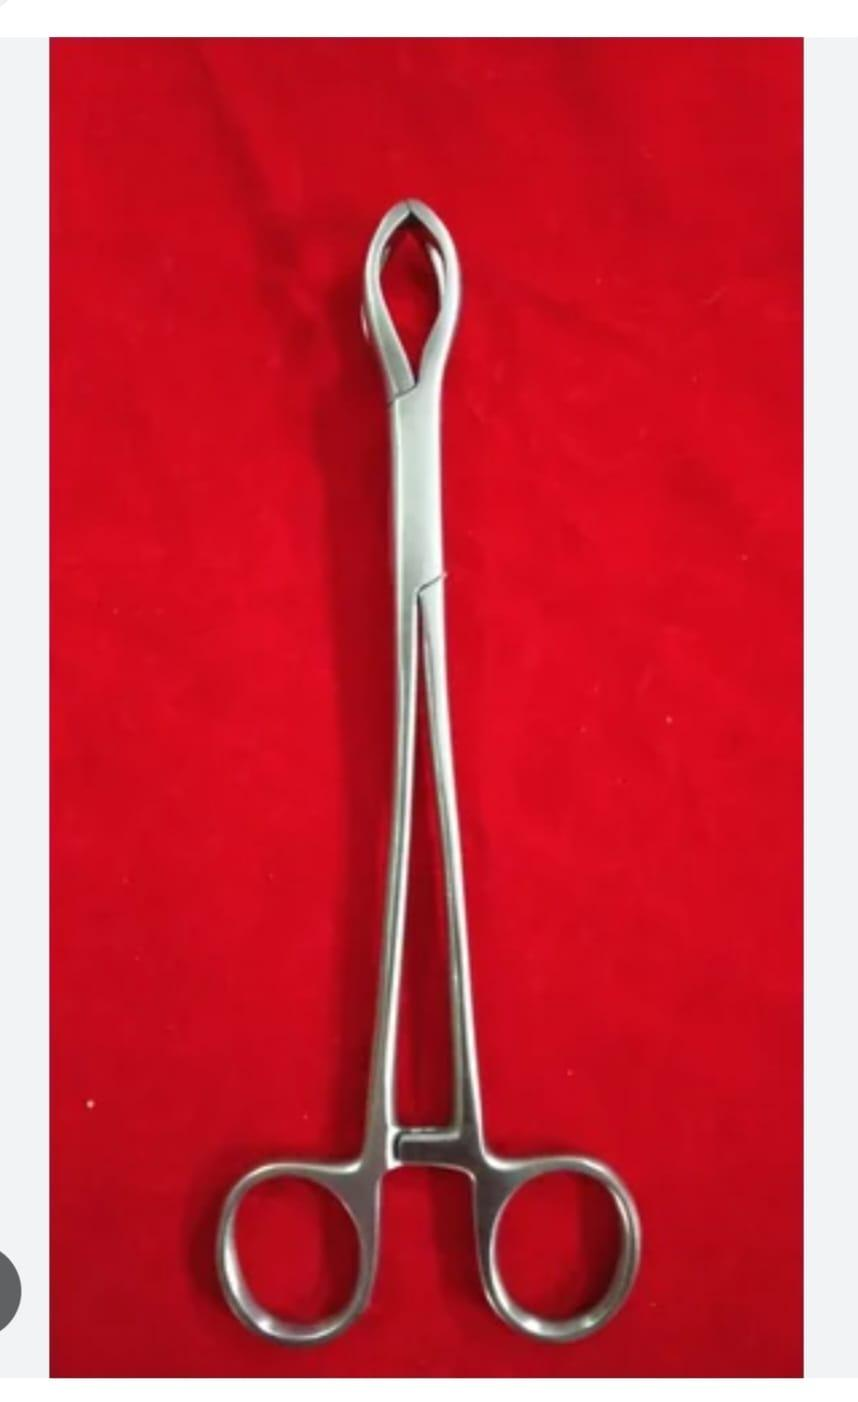Lane Tissue Forceps: (218, 182, 652, 1366)
